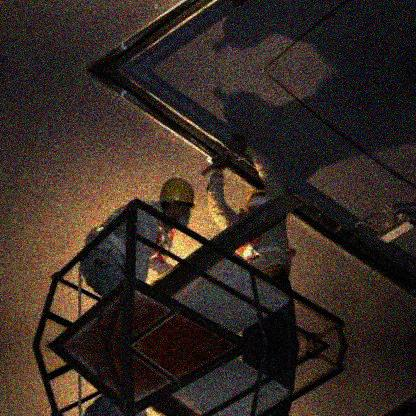helmet: (160, 177, 197, 228), (244, 188, 266, 208)
